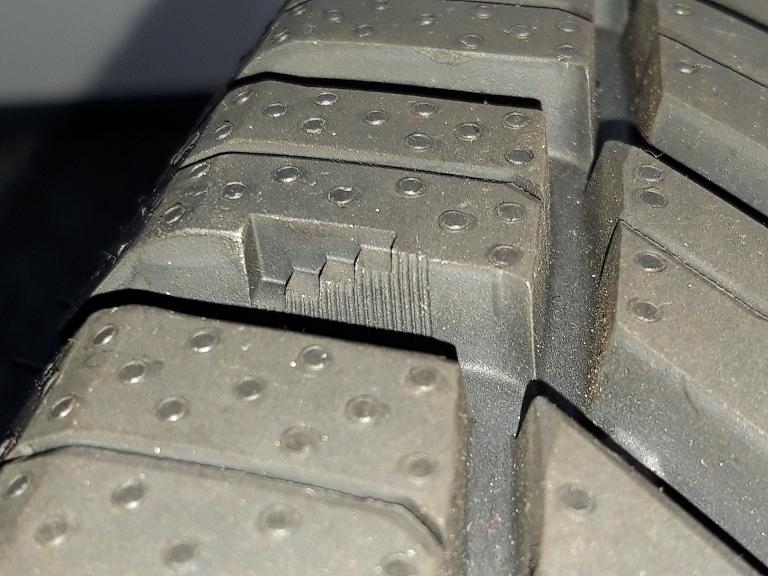temoin:100: (234, 209, 435, 348)
